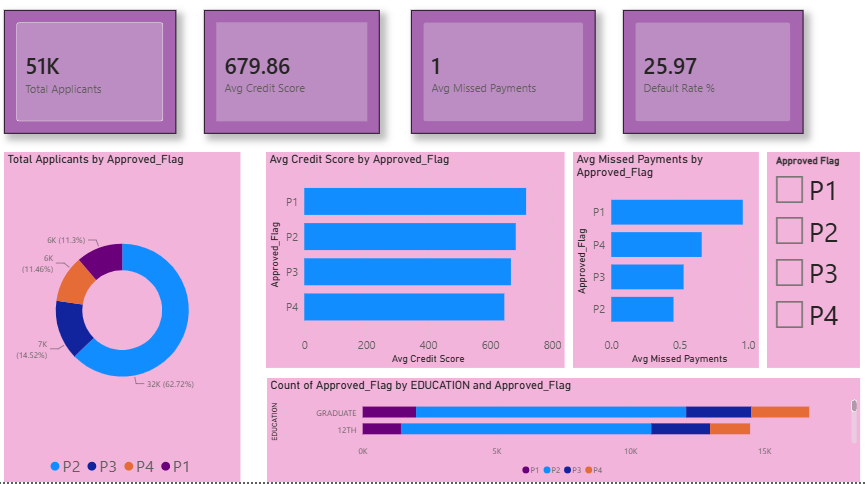

The dashboard page shown, as its layout file describes it:
{"tool":"powerbi","page":{"name":"BFSI Credit Risk overview","canvas":[1280,720],"ordinal":0},"visuals":[{"type":"cardVisual","fields":{"Data":["BFSI dataset.Total Applicants"]},"box":[10.1,28.6,252,181.4],"z":0},{"type":"cardVisual","fields":{"Data":["BFSI dataset.Default Rate %"]},"box":[915.5,28.6,263.7,181.4],"z":1},{"type":"cardVisual","fields":{"Data":["BFSI dataset.Avg Credit Score"]},"box":[302.4,28.6,257,181.4],"z":2},{"type":"cardVisual","fields":{"Data":["BFSI dataset.Avg Missed Payments"]},"box":[606.4,28.6,270.4,181.4],"z":3},{"type":"donutChart","fields":{"Y":["BFSI dataset.Total Applicants"],"Category":["BFSI dataset.Approved_Flag"]},"box":[10.1,236.9,346,483.8],"z":4},{"type":"clusteredBarChart","fields":{"Category":["BFSI dataset.Approved_Flag"],"Y":["BFSI dataset.Avg Credit Score"]},"box":[393.1,236.9,436.7,315.8],"z":5},{"type":"clusteredBarChart","fields":{"Category":["BFSI dataset.Approved_Flag"],"Y":["BFSI dataset.Avg Missed Payments"]},"box":[843.3,236.9,272.1,315.8],"z":6},{"type":"barChart","fields":{"Y":["CountNonNull(BFSI dataset.Approved_Flag)"],"Series":["BFSI dataset.Approved_Flag"],"Category":["BFSI dataset.EDUCATION"]},"box":[394.8,567.8,868.5,152.9],"z":7},{"type":"slicer","fields":{"Values":["BFSI dataset.Approved_Flag"]},"box":[1127.1,236.9,136.1,315.8],"z":8}]}

Visuals, with their boxes in screenshot pixels (x1, y1, x2, y2), scaled from the page's 1280x720 canvas onto the 865x484 screenshot:
cardVisual - BFSI dataset.Total Applicants: 7/19/177/141
cardVisual - BFSI dataset.Default Rate %: 619/19/797/141
cardVisual - BFSI dataset.Avg Credit Score: 204/19/378/141
cardVisual - BFSI dataset.Avg Missed Payments: 410/19/593/141
donutChart - BFSI dataset.Total Applicants x BFSI dataset.Approved_Flag: 7/159/241/483
clusteredBarChart - BFSI dataset.Approved_Flag x BFSI dataset.Avg Credit Score: 266/159/561/372
clusteredBarChart - BFSI dataset.Approved_Flag x BFSI dataset.Avg Missed Payments: 570/159/754/372
barChart - CountNonNull(BFSI dataset.Approved_Flag) x BFSI dataset.Approved_Flag: 267/382/854/483
slicer - BFSI dataset.Approved_Flag: 762/159/854/372
